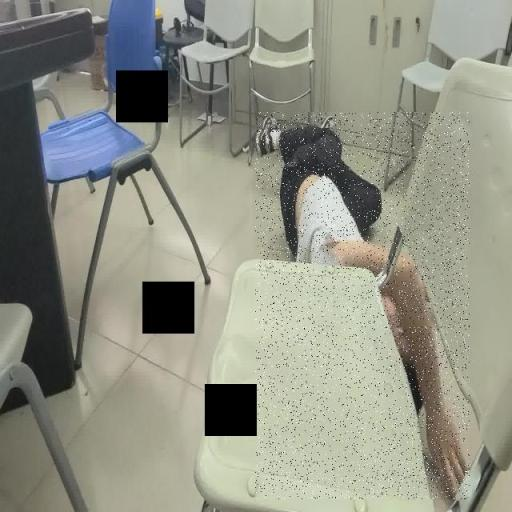Fall: (256, 112, 470, 499)
